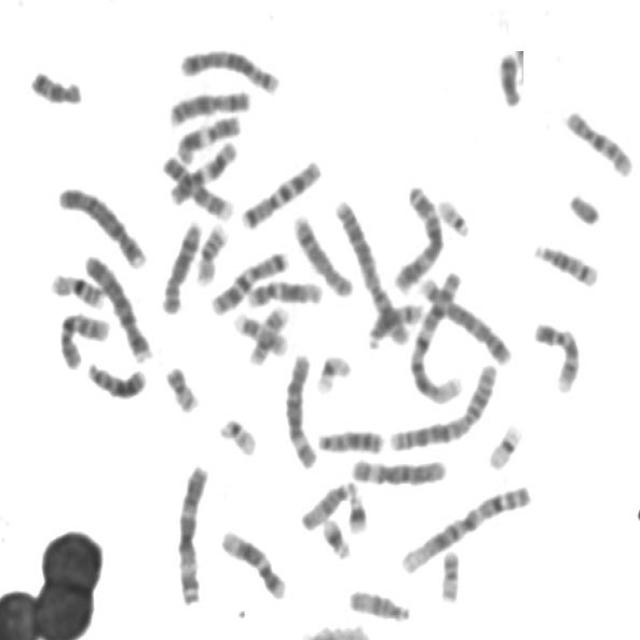A1: (396, 477, 535, 577), (405, 264, 467, 405)
A2: (330, 193, 412, 346), (385, 357, 502, 452)
A3: (390, 178, 448, 294), (172, 457, 212, 608)
B4: (80, 245, 155, 364), (54, 178, 150, 270)
B5: (415, 269, 515, 366), (176, 40, 283, 96)
C10: (560, 102, 637, 178), (55, 304, 113, 371)
C11: (164, 135, 241, 206), (172, 109, 242, 165)
C12: (217, 522, 290, 602), (243, 273, 326, 308)
C6: (280, 346, 322, 471), (346, 448, 450, 488)
C7: (236, 152, 325, 231), (207, 244, 293, 316)
C8: (289, 207, 357, 299), (158, 214, 206, 316)
C9: (159, 148, 236, 222), (530, 315, 585, 395)
D13: (83, 354, 150, 401), (313, 421, 387, 456)
D14: (529, 236, 602, 289), (362, 295, 428, 350)
D15: (297, 473, 359, 532), (344, 582, 414, 623)
E16: (46, 266, 108, 310), (192, 216, 230, 286)
E17: (230, 306, 292, 358), (245, 299, 291, 367)
E18: (26, 63, 86, 107), (493, 44, 526, 108)
F19: (484, 416, 526, 472), (312, 348, 355, 394)
F20: (161, 358, 203, 414), (436, 543, 464, 605)
G21: (317, 510, 354, 560), (343, 485, 371, 535)
G22: (215, 411, 260, 456), (433, 192, 474, 238)
X: (164, 82, 254, 128)
Y: (564, 185, 604, 227)
